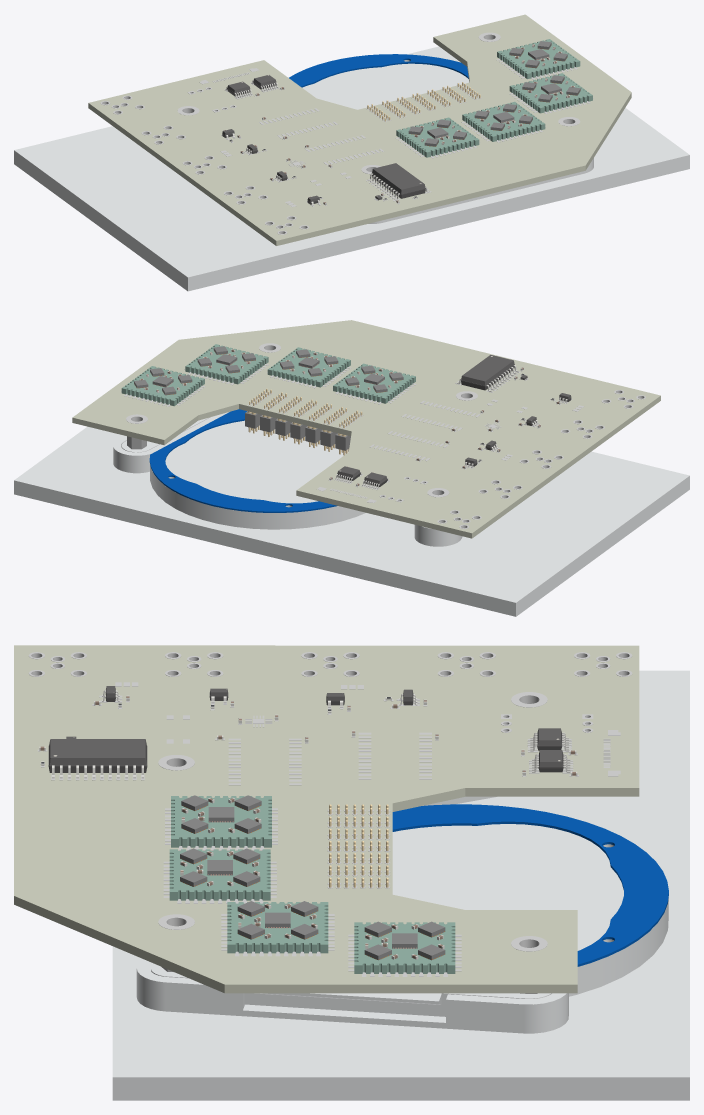
Rendered from board_wafer_assem.gltf.
3 views of the same model, one above another, from view 1: azimuth 30°, elevation 25°; view 2: azimuth 150°, elevation 25°; view 3: azimuth 270°, elevation 25° (orthographic). The views are drawn at different scales.
Visible parts, largest first — view 1: teer_mux_PCB.step-1, Chip Holder-1, switch-mux_1to16_module_PCB.step-1 (×4), teer_mux_pad.step-1, Wafer Mount 2-1, SOIC-24W_7.5x15.4mm_P1.27mm-2.step-1; view 2: Chip Holder-1, teer_mux_PCB.step-1, switch-mux_1to16_module_PCB.step-1 (×4), teer_mux_pad.step-1, Wafer Mount 2-1, SOIC-24W_7.5x15.4mm_P1.27mm-2.step-1; view 3: teer_mux_PCB.step-1, Chip Holder-1, switch-mux_1to16_module_PCB.step-1 (×4), teer_mux_pad.step-1, Wafer Mount 2-1, Board Mount-1, SOIC-24W_7.5x15.4mm_P1.27mm-2.step-1, SSOP-16_3.9x4.9mm_P0.635mm-62.step-1 (×2).
Boxes of the visible parts, left/top/right/bottom form: teer_mux_PCB.step-1: left=88, top=14, right=631, bottom=245; Chip Holder-1: left=14, top=46, right=689, bottom=291; switch-mux_1to16_module_PCB.step-1 (×4): left=396, top=39, right=592, bottom=157; teer_mux_pad.step-1: left=100, top=32, right=593, bottom=234; Wafer Mount 2-1: left=289, top=54, right=468, bottom=87; SOIC-24W_7.5x15.4mm_P1.27mm-2.step-1: left=367, top=163, right=429, bottom=200; Chip Holder-1: left=14, top=412, right=689, bottom=616; teer_mux_PCB.step-1: left=72, top=320, right=660, bottom=538; switch-mux_1to16_module_PCB.step-1 (×4): left=121, top=344, right=415, bottom=406; teer_mux_pad.step-1: left=121, top=343, right=645, bottom=528; Wafer Mount 2-1: left=149, top=409, right=337, bottom=512; SOIC-24W_7.5x15.4mm_P1.27mm-2.step-1: left=456, top=355, right=518, bottom=391; teer_mux_PCB.step-1: left=14, top=645, right=639, bottom=993; Chip Holder-1: left=112, top=670, right=689, bottom=1100; switch-mux_1to16_module_PCB.step-1 (×4): left=169, top=796, right=455, bottom=973; teer_mux_pad.step-1: left=28, top=652, right=632, bottom=976; Wafer Mount 2-1: left=392, top=804, right=668, bottom=966; Board Mount-1: left=151, top=962, right=551, bottom=1016; SOIC-24W_7.5x15.4mm_P1.27mm-2.step-1: left=48, top=739, right=147, bottom=778; SSOP-16_3.9x4.9mm_P0.635mm-62.step-1 (×2): left=530, top=728, right=570, bottom=772.
Bounding box in the file's own units: 0.15 × 0.0194 × 0.1054.
